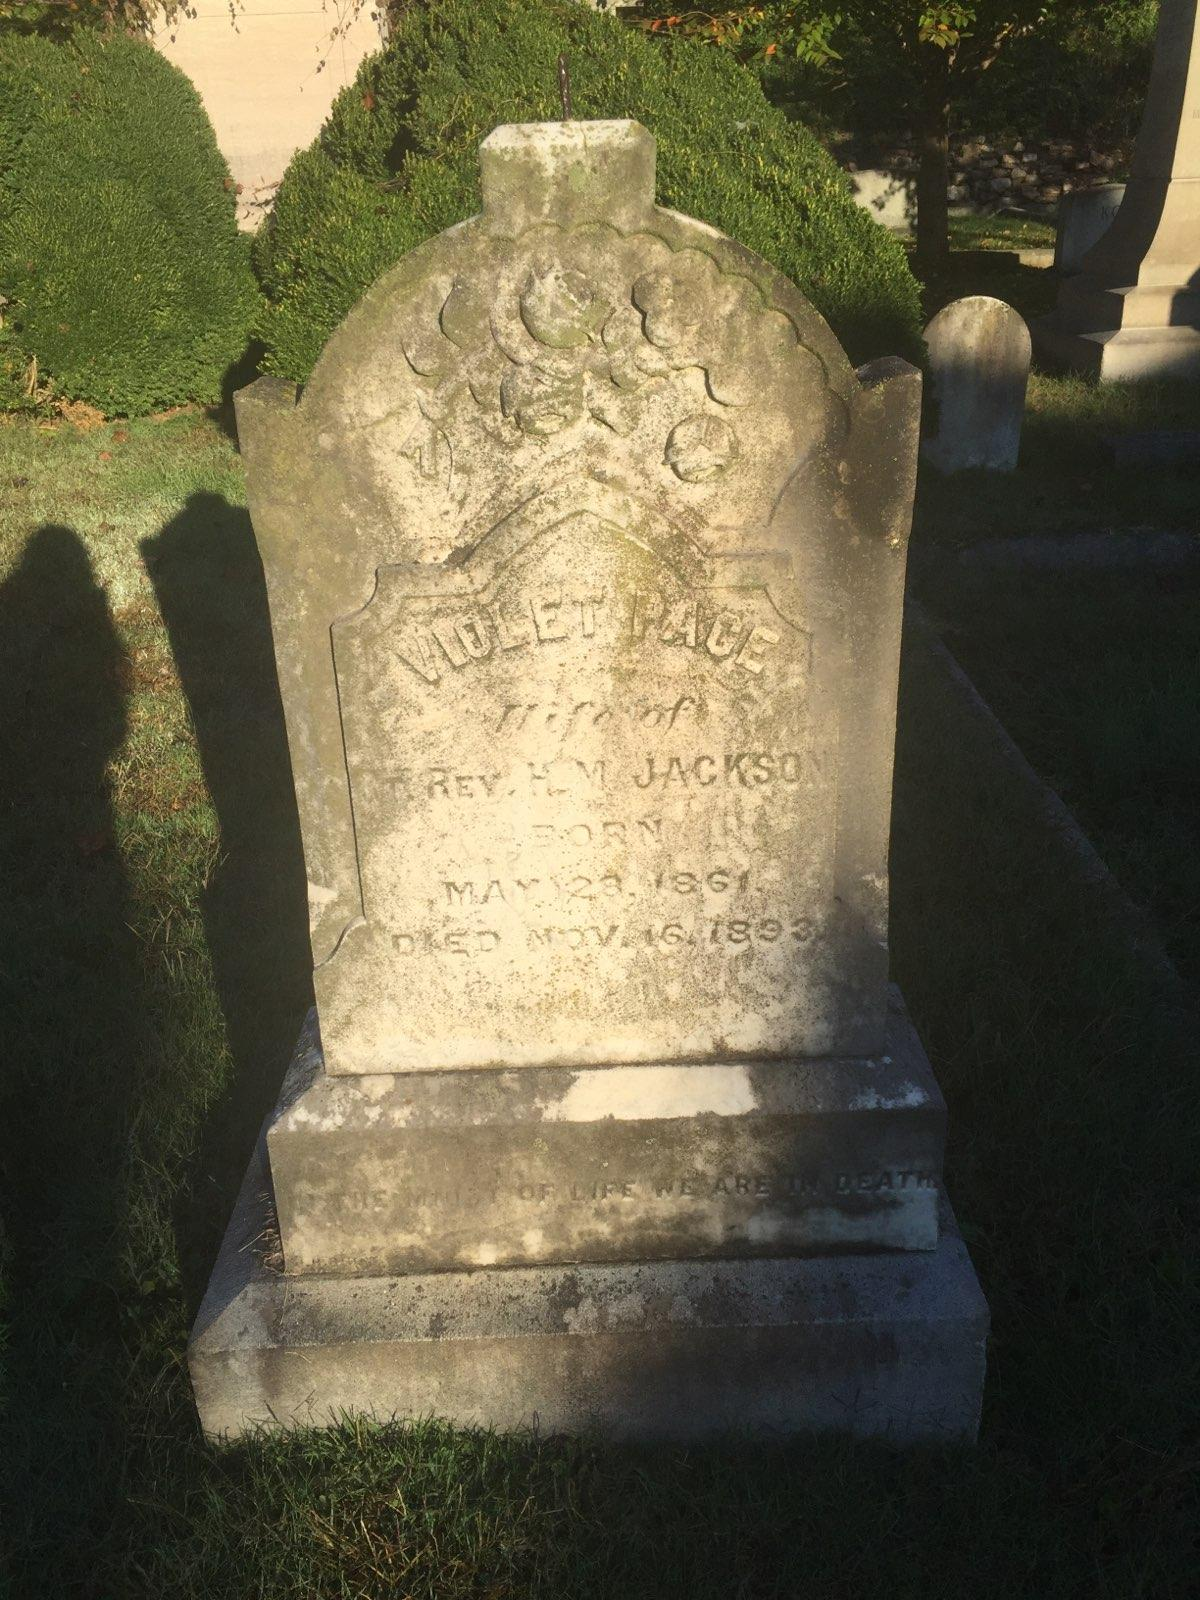upright: (218, 112, 984, 1466)
